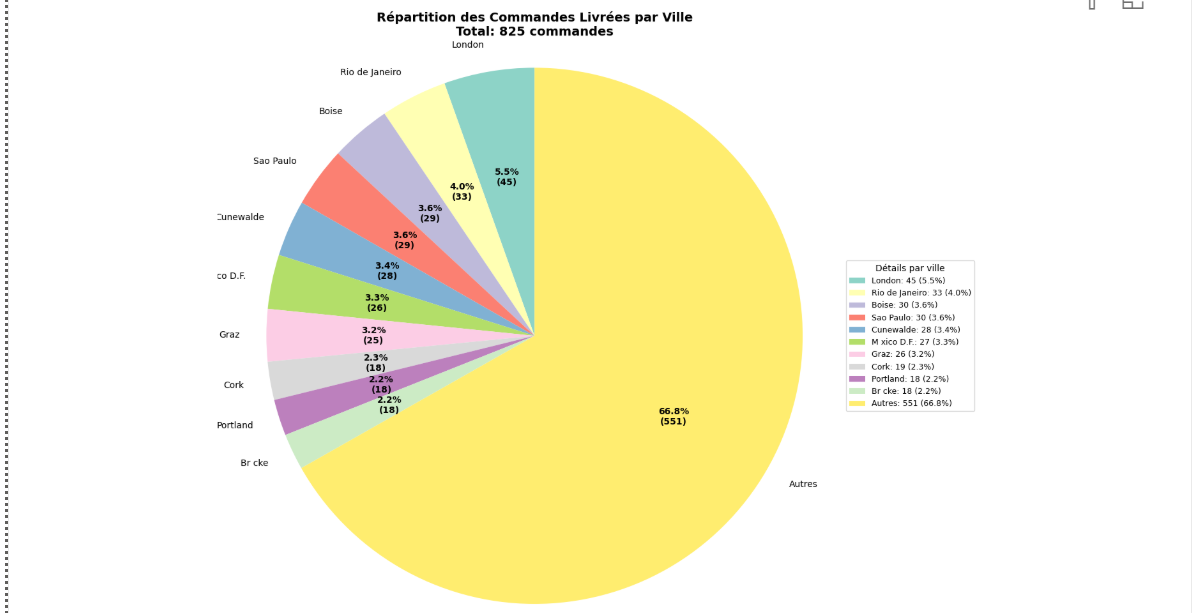

Layout of this report page (visuals, bound fields, positions):
{"tool":"powerbi","page":{"name":"Commandes livrées par ville","canvas":[1280,720],"ordinal":2},"visuals":[{"type":"pythonVisual","fields":{"Values":["Dim_client.City","Dim_client.CompanyName","Dim_employee.Nom","Dim_employee.Prenom","Dim_employee.RegionID","Dim_employee.Territory","Dim_temps.annee","Dim_temps.mois_annee","TF_Commande.nbr_commande_livrees","TF_Commande.nbr_commande_non_livrees"]},"box":[0,0,1279.5,718.9],"z":0}]}

Visuals, with their boxes on the page's 1280x720 design canvas (x1, y1, x2, y2). These are canvas units, not pixel positions in the 1192x613 screenshot, which may show the page scaled, cropped or inside an application window:
pythonVisual - Dim_client.City x Dim_client.CompanyName: Rect(0, 0, 1280, 719)
